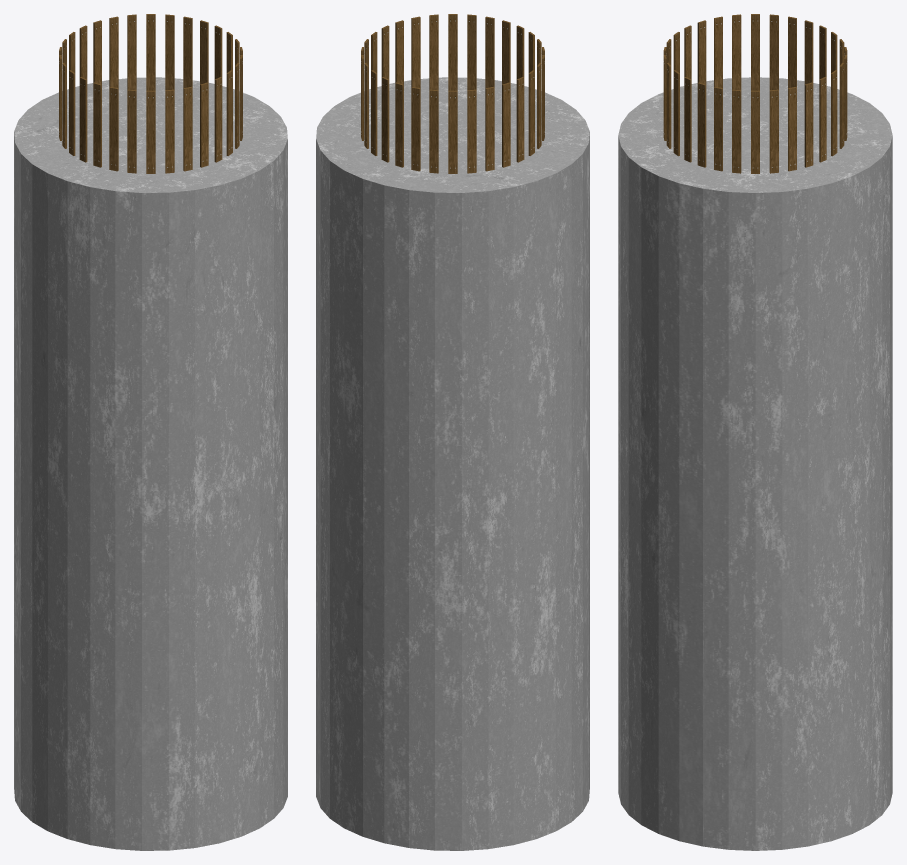
Rendered from arena.fbx.
3 renders of one model, left to right at view 1: azimuth 30°, elevation 25°; view 2: azimuth 150°, elevation 25°; view 3: azimuth 270°, elevation 25°, orthographic.
Parts seen in each view (by area): view 1: walec, fence.035, fence.029, fence.041, fence.023, fence.047, fence.125, fence.119, fence.131, fence.017, fence.053, fence.011 (+7 smaller); view 2: walec, fence.155, fence.149, fence.161, fence.143, fence.167, fence.065, fence.059, fence.071, fence.137, fence.173, fence.131 (+7 smaller); view 3: walec, fence.089, fence.101, fence.077, fence.113, fence.011, fence.095, fence.179, fence.083, fence.107, fence.005, fence.071 (+7 smaller).
Boxes of the visible parts, x1,y1,x2,y2 form: walec: [14, 77, 287, 850]; fence.035: [146, 90, 155, 173]; fence.029: [127, 89, 136, 173]; fence.041: [165, 89, 174, 173]; fence.023: [109, 87, 118, 171]; fence.047: [183, 87, 192, 171]; fence.125: [146, 14, 155, 90]; fence.119: [165, 14, 174, 90]; fence.131: [127, 14, 136, 90]; fence.017: [93, 82, 101, 167]; fence.053: [200, 82, 208, 167]; fence.011: [79, 77, 87, 162]; walec: [316, 77, 589, 850]; fence.155: [448, 90, 457, 173]; fence.149: [429, 89, 438, 173]; fence.161: [467, 89, 476, 173]; fence.143: [411, 87, 420, 171]; fence.167: [485, 87, 494, 171]; fence.065: [448, 14, 457, 90]; fence.059: [467, 14, 476, 90]; fence.071: [429, 14, 438, 90]; fence.137: [395, 82, 403, 167]; fence.173: [502, 82, 510, 167]; fence.131: [381, 77, 389, 162]; walec: [618, 77, 892, 850]; fence.089: [732, 89, 741, 173]; fence.101: [769, 89, 778, 173]; fence.077: [697, 82, 706, 167]; fence.113: [804, 82, 813, 167]; fence.011: [732, 14, 741, 90]; fence.095: [751, 90, 759, 173]; fence.179: [769, 14, 778, 90]; fence.083: [714, 87, 722, 171]; fence.107: [788, 87, 796, 171]; fence.005: [751, 14, 759, 90]; fence.071: [684, 77, 691, 162].
Bounding box in the file's own units: 604 × 1798 × 604.
